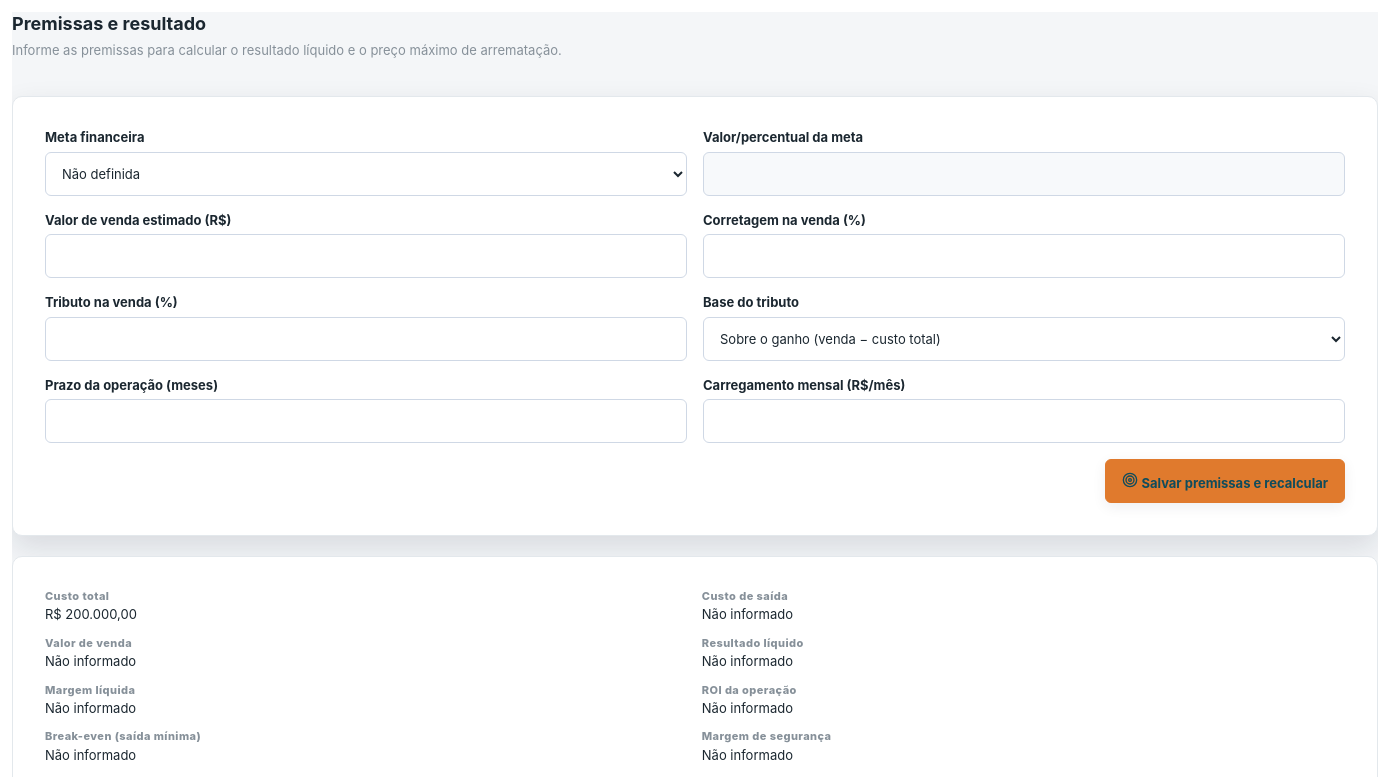
Test: FinancialSection › salva premissas financeiras e recalcula
The width and height of the screenshot is (1378, 777).
Expected: the heading "Premissas e resultado" is shown, [12,13,206,34]
Select "Lucro mínimo (R$)" in the dropdown labelled "Meta financeira" at point(366, 174), box [45,152,687,196]
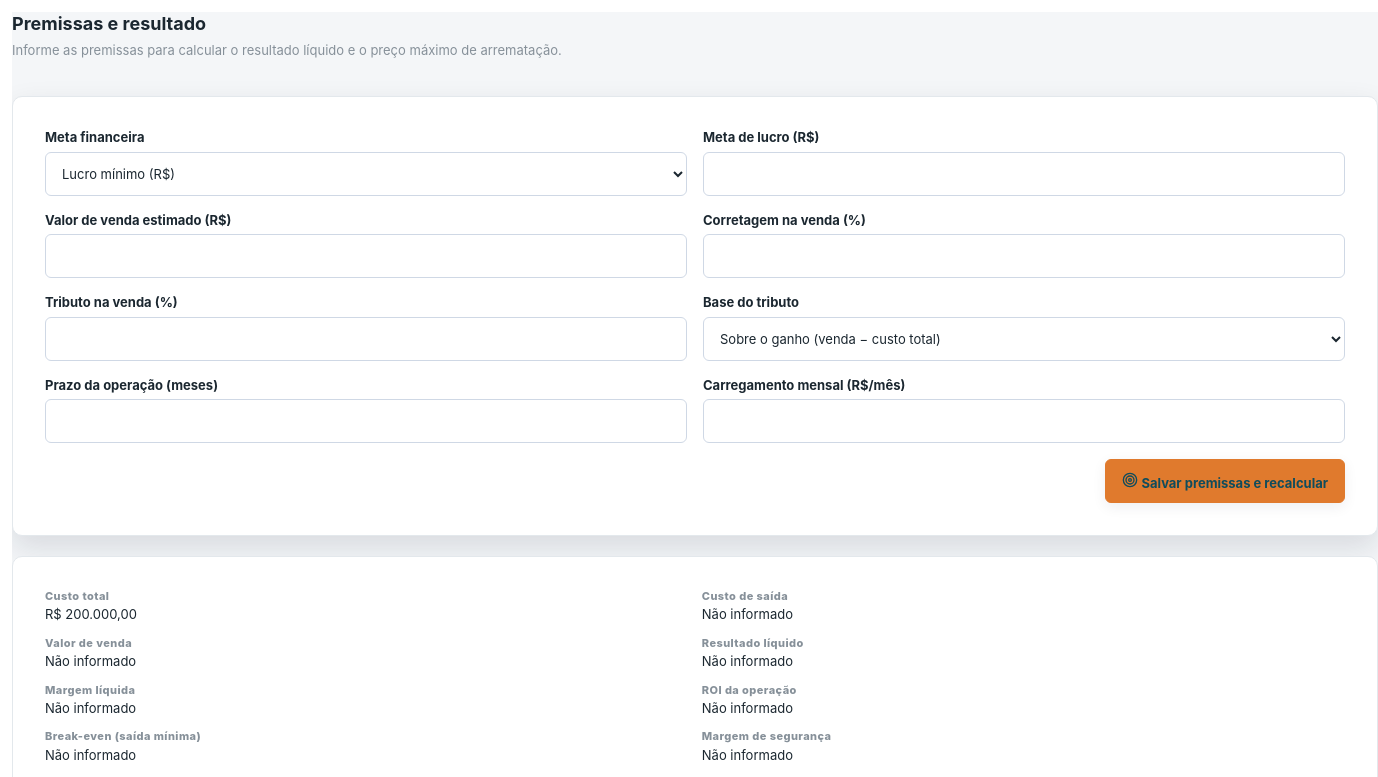
Type "40000" into the number field labelled "Meta de lucro (R$)" at point(1024, 174), box [703,152,1345,196]
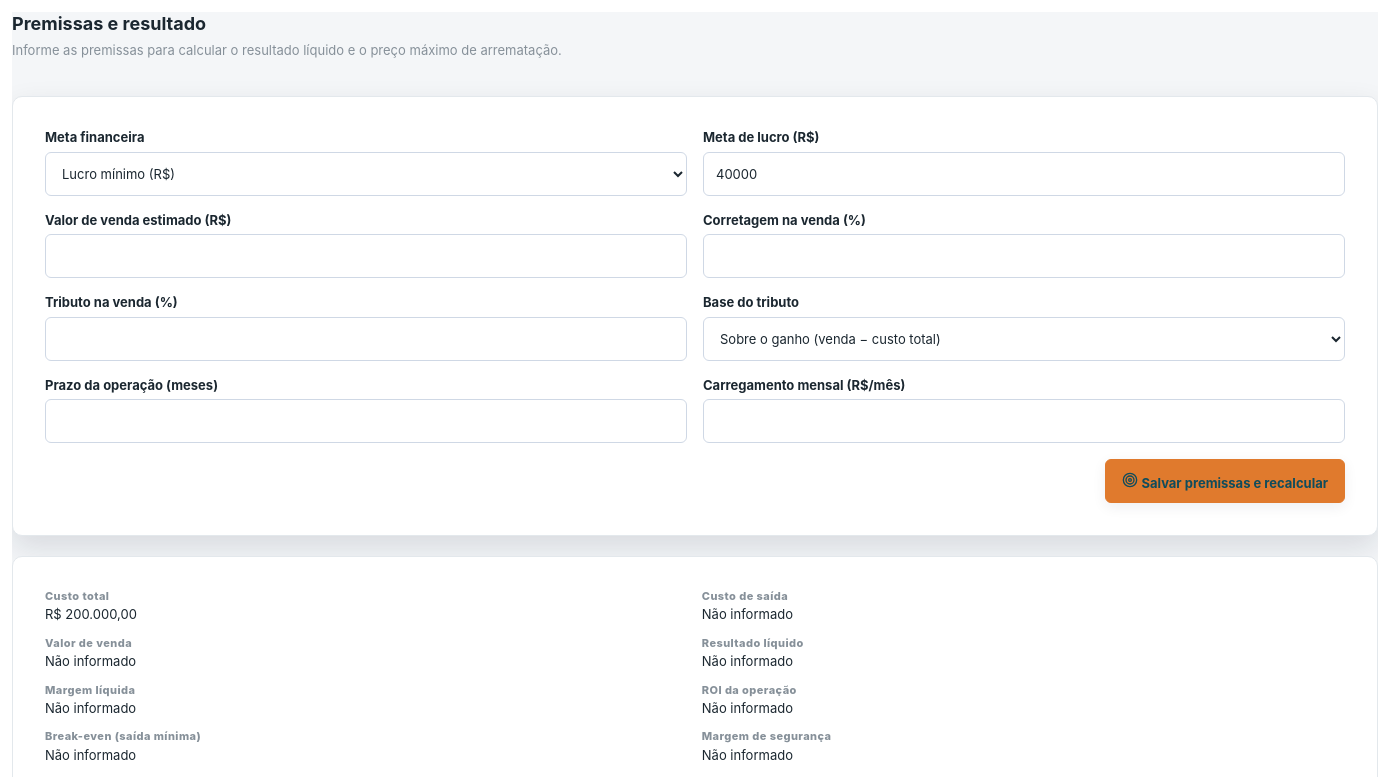
Type "320000" into the number field labelled "Valor de venda estimado (R$)" at point(366, 256), box [45,234,687,278]
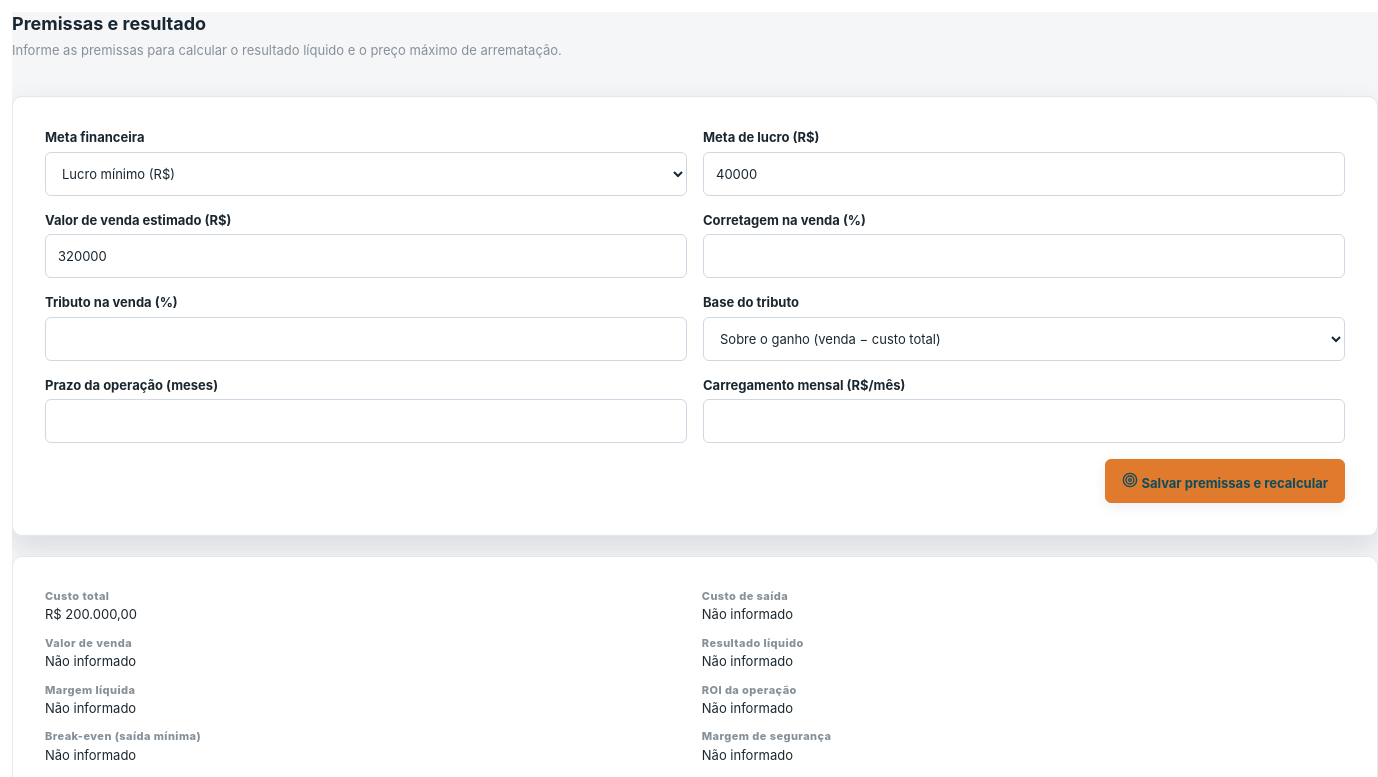
Click the button "Salvar premissas e recalcular" at point(1225, 481), box [1105,459,1345,503]
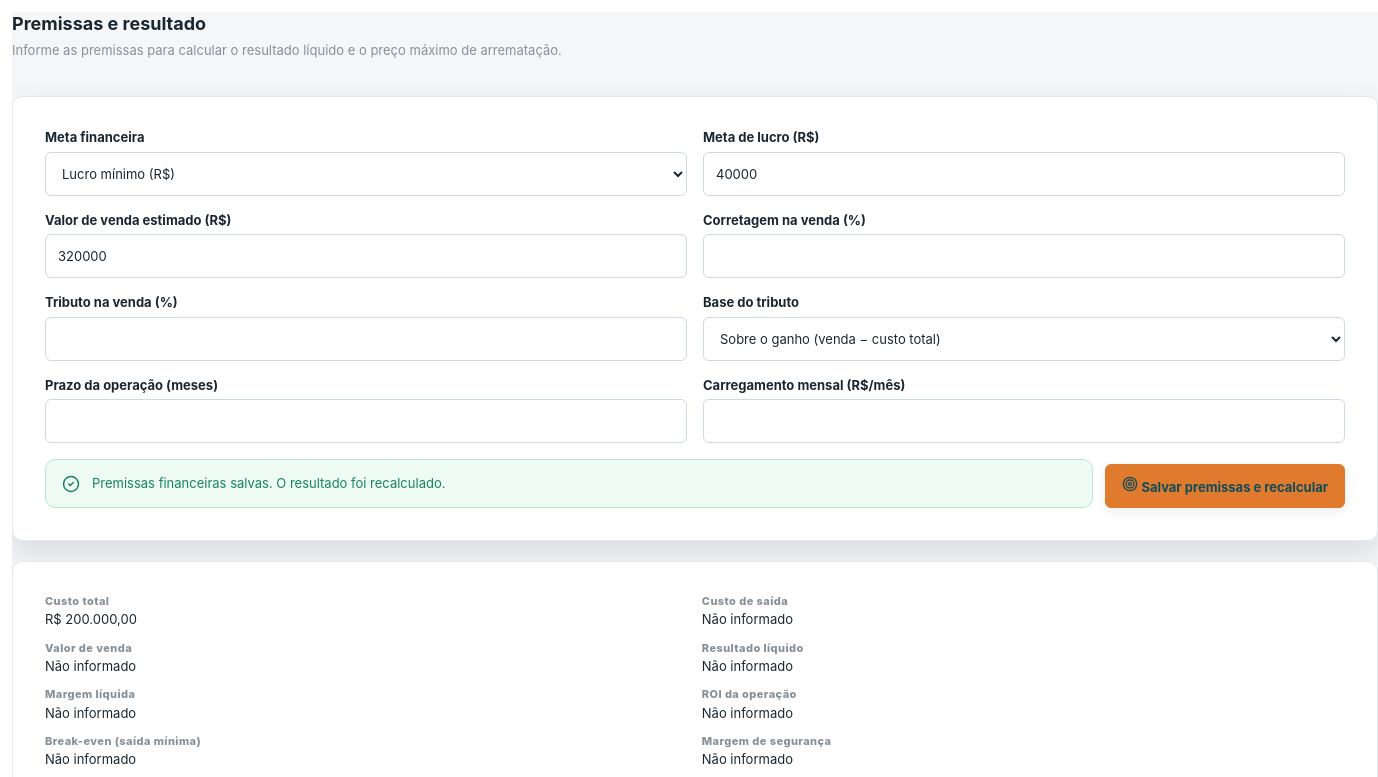
Result: the text "Premissas financeiras salvas. O resultado foi recalculado." is shown at [92,475,445,491]
